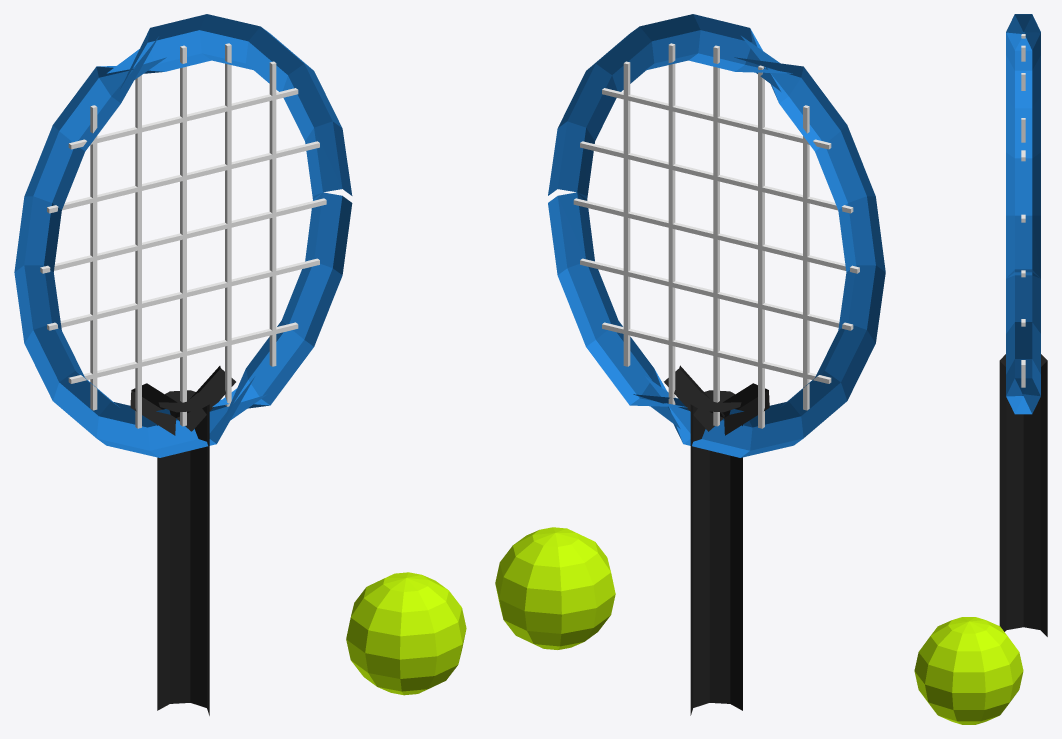
File: tennisracket.glb
3 views of the same model, side by side, from view 1: azimuth 30°, elevation 25°; view 2: azimuth 150°, elevation 25°; view 3: azimuth 270°, elevation 25° (orthographic). The views are drawn at different scales.
Parts seen in each view (by area): view 1: tennisracket; view 2: tennisracket; view 3: tennisracket.
Boxes of the visible parts, left/top/right/bottom form: tennisracket: left=14, top=14, right=466, bottom=715; tennisracket: left=495, top=14, right=885, bottom=715; tennisracket: left=914, top=14, right=1047, bottom=724.
Size of the model in its own units: 0.3814 by 0.6174 by 0.122.
